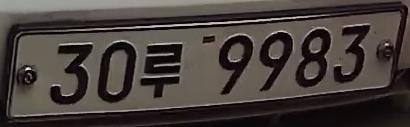0: (95, 39, 139, 106)
3: (45, 39, 96, 108), (332, 23, 372, 85)
8: (295, 23, 332, 88)
9: (255, 27, 297, 94), (216, 30, 255, 96)
루: (141, 41, 185, 99)
